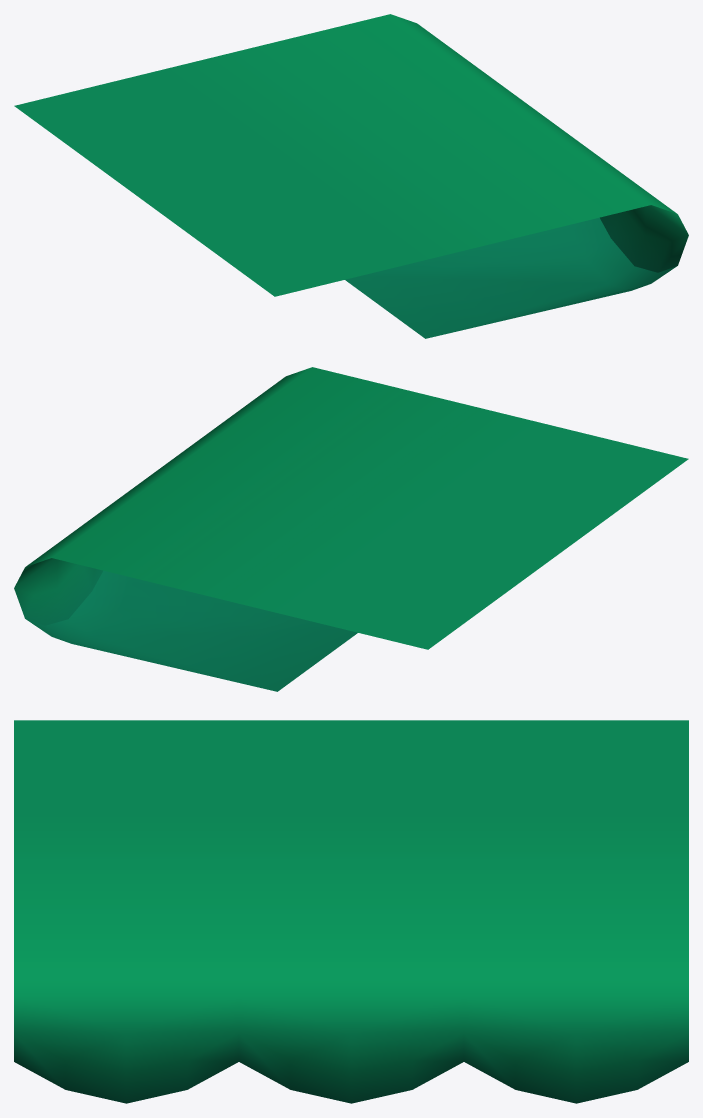
Rendered from Hill_Top_F_Side_Color2.fbx.
3 renders of one model, top to bottom at view 1: azimuth 30°, elevation 25°; view 2: azimuth 150°, elevation 25°; view 3: azimuth 270°, elevation 25°, orthographic. The views are drawn at different scales.
Parts seen in each view (by area): view 1: Hill_Top_F_Side_Color2; view 2: Hill_Top_F_Side_Color2; view 3: Hill_Top_F_Side_Color2.
Boxes of the visible parts, x1,y1,x2,y2 form: Hill_Top_F_Side_Color2: (14,14,688,338); Hill_Top_F_Side_Color2: (14,367,688,691); Hill_Top_F_Side_Color2: (14,720,688,1103).
Bounding box in the file's own units: 2.75 × 0.7052 × 3.
